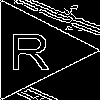R: (8, 25, 50, 70)
